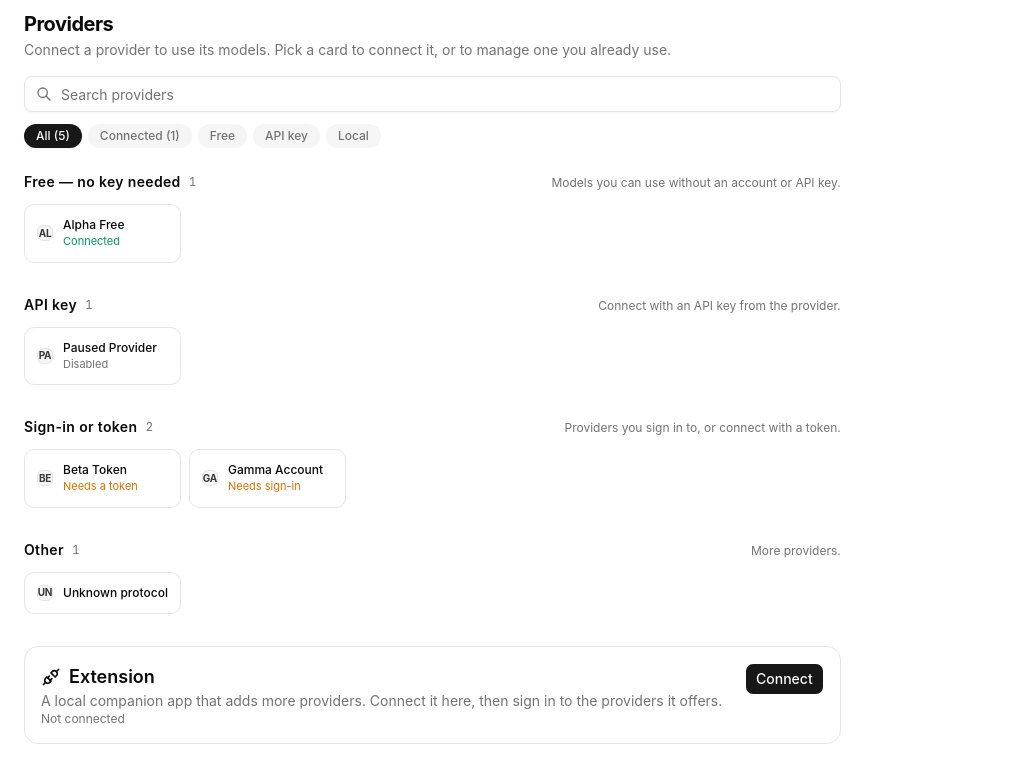
Scenario: ModelsWorkspace › providers the extension serves › says sign-in needs the extension while it is not connected
(page scrolled)
Click the button with aria-label "Manage Gamma Account": (267, 478) 189,449 -> 346,508
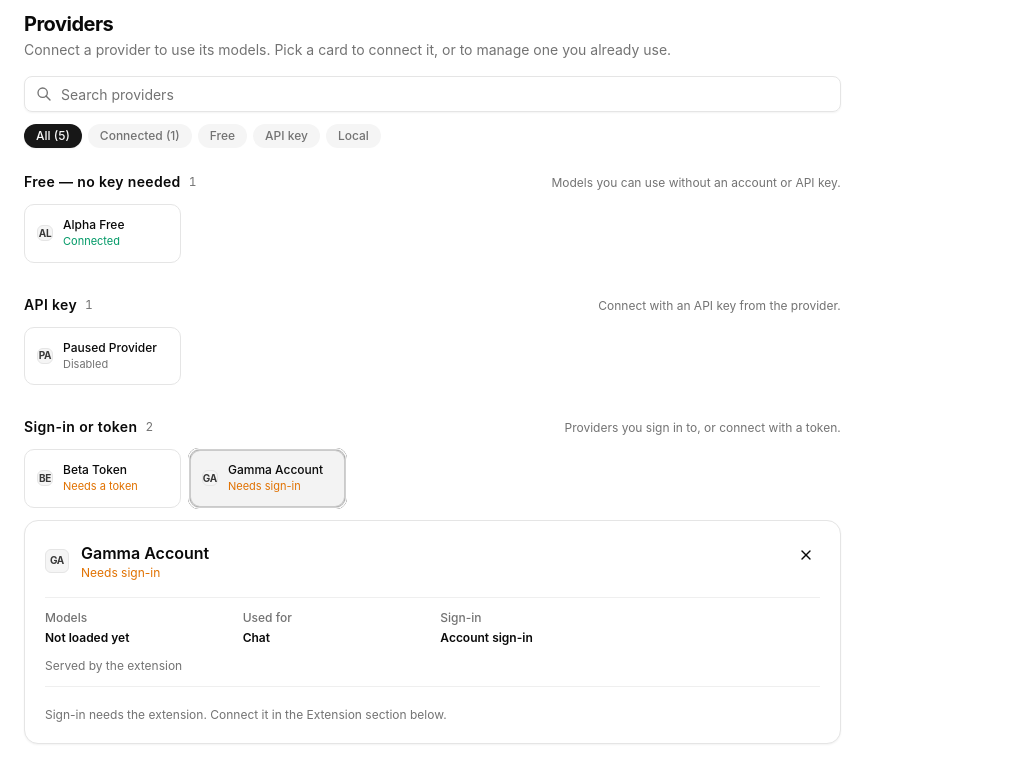
Now the text "Sign-in needs the extension. Connect it in the Extension section below." is shown, box 45,706 -> 447,722
